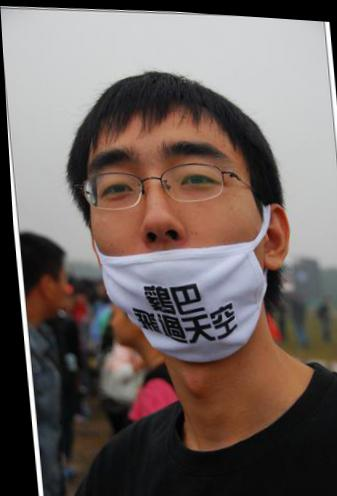WRONG: (74, 113, 272, 338)
